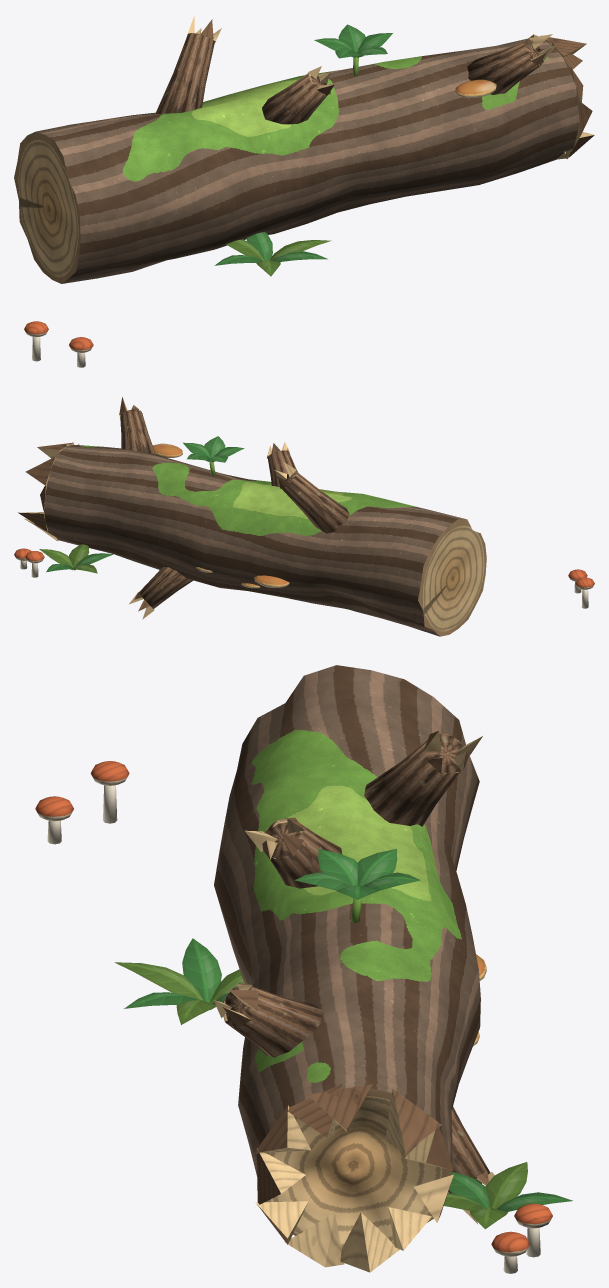
Rendered from fallen_log_b.glb.
3 views of the same model, one above another, from view 1: azimuth 30°, elevation 25°; view 2: azimuth 150°, elevation 25°; view 3: azimuth 270°, elevation 25° (orthographic). The views are drawn at different scales.
Visible parts, largest first — view 1: FallenLog, FallenLog_leaf; view 2: FallenLog, FallenLog_leaf; view 3: FallenLog, FallenLog_leaf.
Boxes of the visible parts, x1=… form: FallenLog: x1=14, y1=15, x2=594, y2=367; FallenLog_leaf: x1=214, y1=24, x2=392, y2=276; FallenLog: x1=14, y1=397, x2=594, y2=636; FallenLog_leaf: x1=39, y1=436, x2=244, y2=573; FallenLog: x1=35, y1=665, x2=552, y2=1273; FallenLog_leaf: x1=114, y1=849, x2=572, y2=1229.
Size of the model in its own units: 3.55 by 1.24 by 1.65.
Materials: 1 (1 with a texture image).
